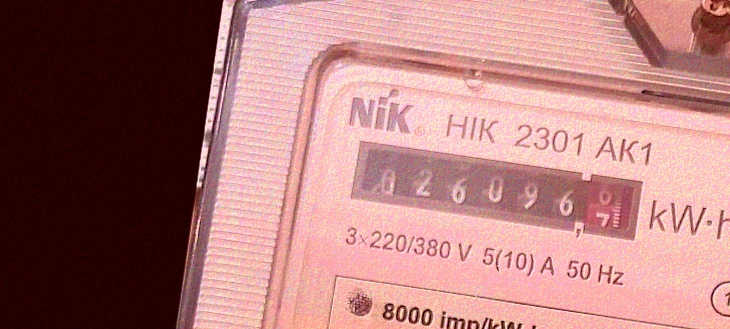0: (483, 171, 508, 208), (376, 163, 400, 198)
2: (412, 165, 437, 202)
6: (448, 172, 472, 209), (556, 184, 578, 220), (594, 180, 617, 209)
7: (592, 209, 613, 232)
9: (519, 179, 543, 213)
screen: (339, 130, 653, 254)
